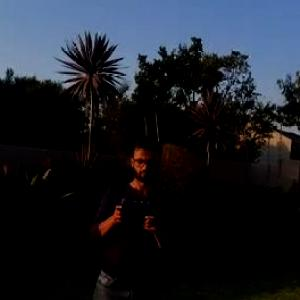follow: (79, 125, 183, 299)
